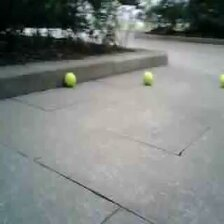tennis: (62, 71, 76, 86), (142, 72, 153, 84)
